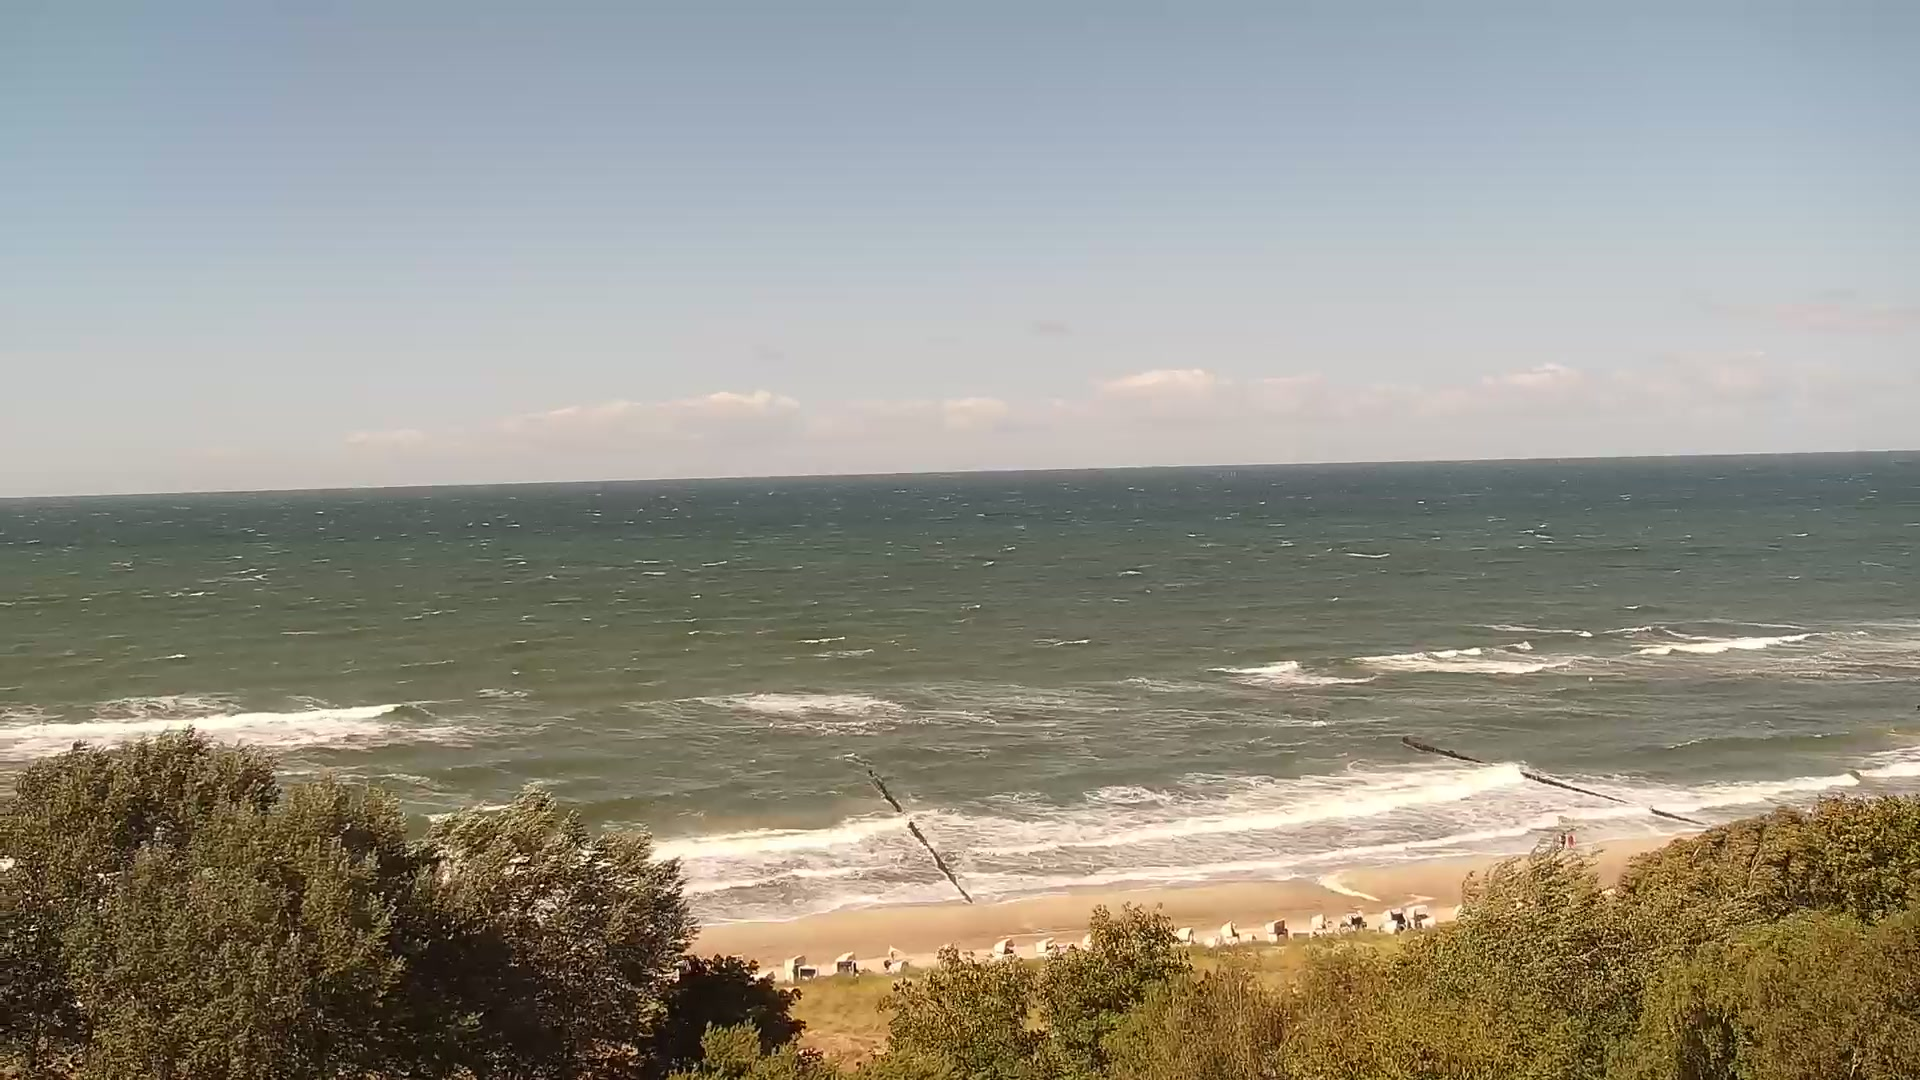human: (1559, 831, 1566, 848), (1567, 832, 1574, 848)
